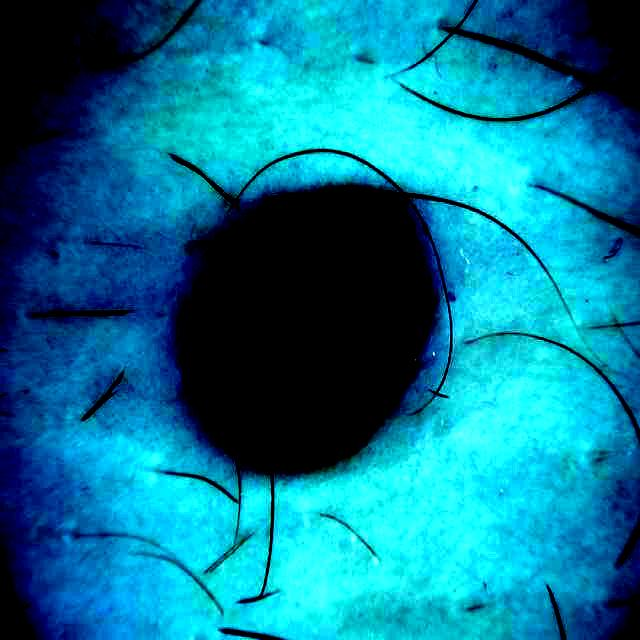BKL: (193, 196, 428, 464)
